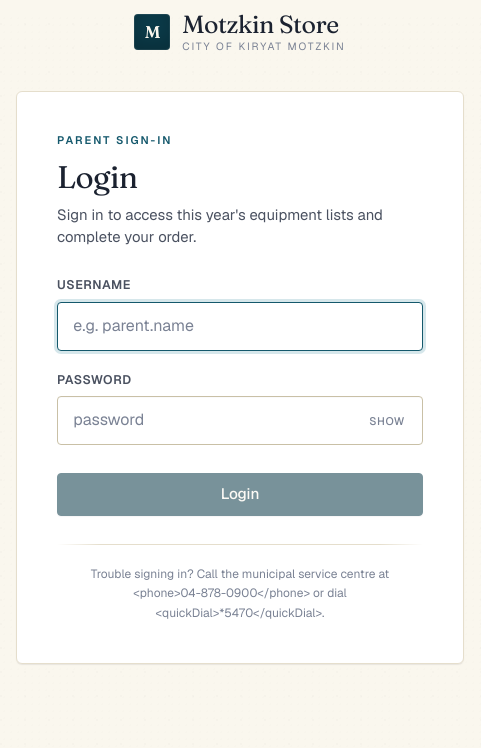
it: LoginForm › Error Handling › should display error message on login failure
Type "testuser" into the field labelled "Username" at {"x": 240, "y": 326}, box [57,302,423,351]
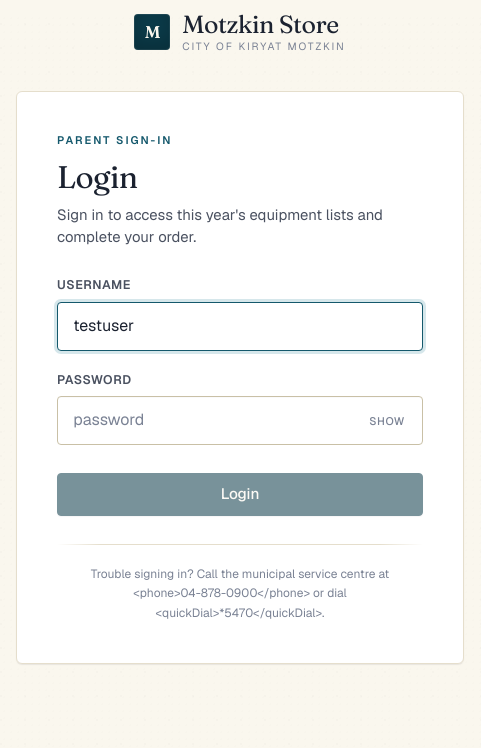
Type "wrongpassword" into the password field labelled "Password" at {"x": 240, "y": 421}, box [57,396,423,445]
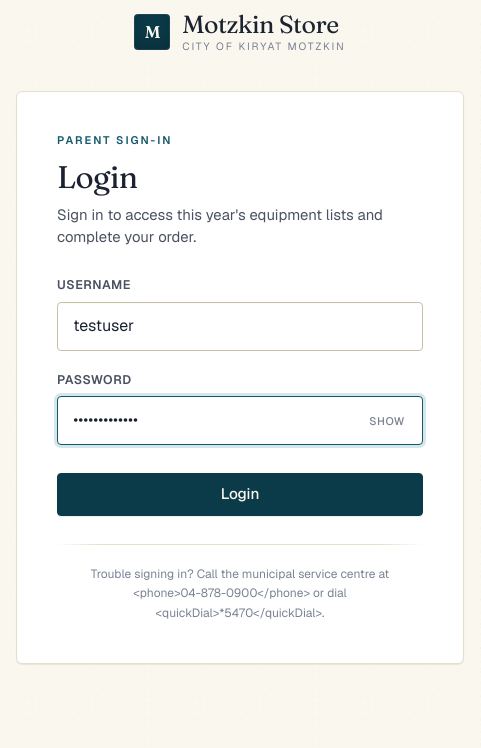
Click the button "Login" at {"x": 240, "y": 495}, box [57,473,423,516]
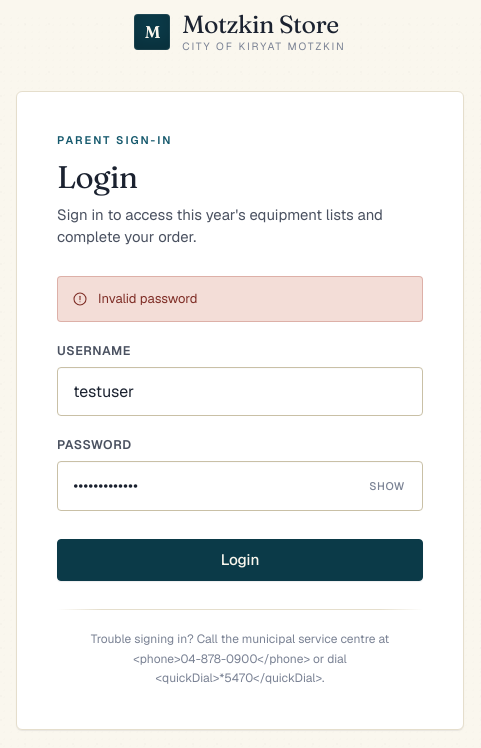
Expected: the text "Invalid password" is shown, [98,289,198,309]
